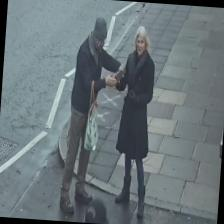person: (58, 14, 128, 214), (112, 24, 157, 216)
